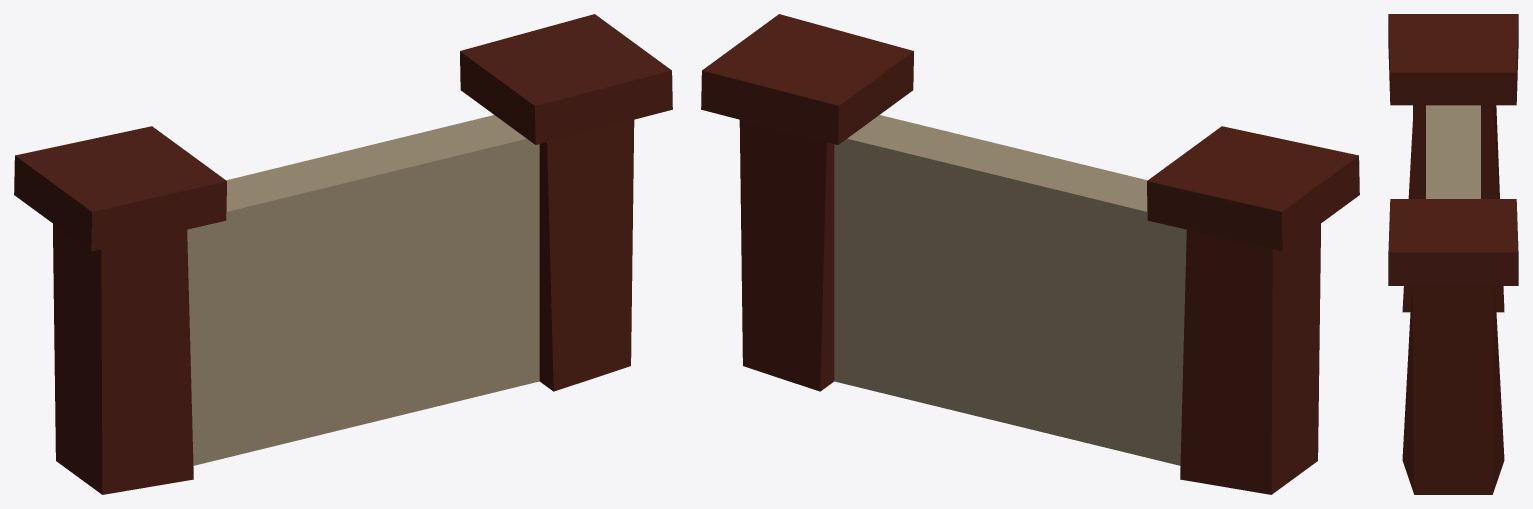
Rendered from Wall_001.fbx.
3 renders of one model, left to right at view 1: azimuth 30°, elevation 25°; view 2: azimuth 150°, elevation 25°; view 3: azimuth 270°, elevation 25°, orthographic. The views are drawn at different scales.
Parts seen in each view (by area): view 1: Wall_001; view 2: Wall_001; view 3: Wall_001.
Boxes of the visible parts, x1=… form: Wall_001: x1=14, y1=14, x2=672, y2=494; Wall_001: x1=701, y1=14, x2=1359, y2=494; Wall_001: x1=1388, y1=14, x2=1518, y2=494.
Size of the model in its own units: 438 by 216 by 101.
